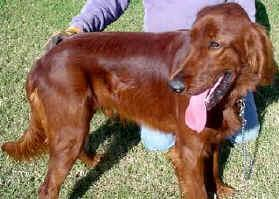Irish_setter: (5, 4, 275, 198)
